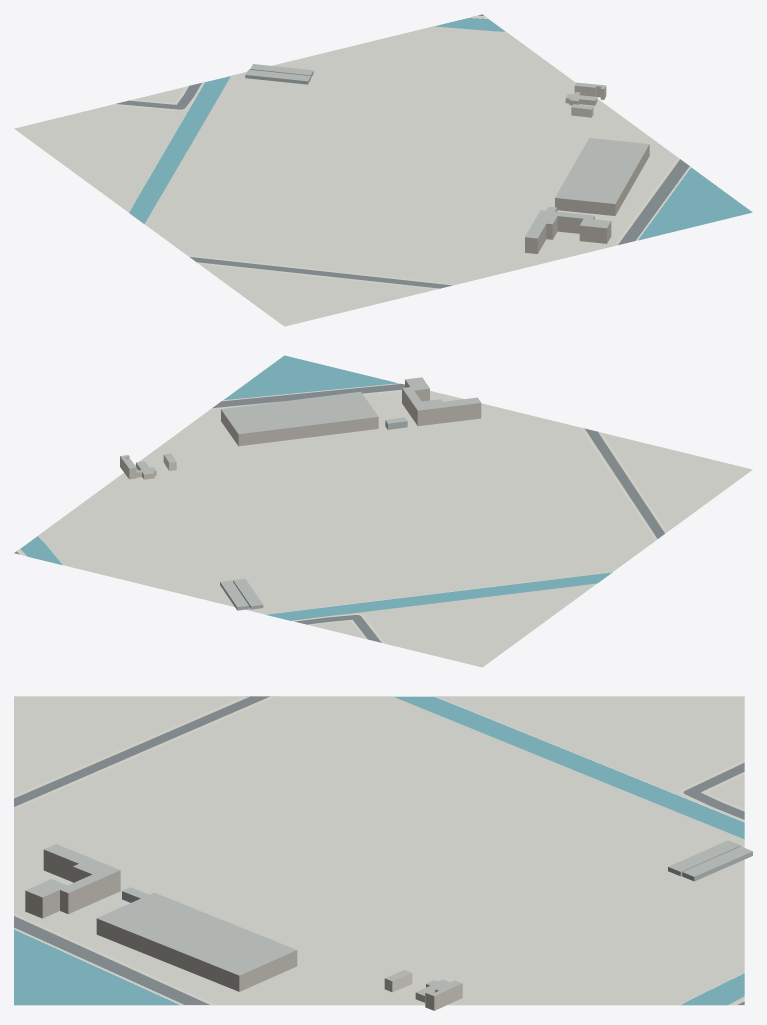
3 renders of one model, top to bottom at view 1: azimuth 30°, elevation 25°; view 2: azimuth 150°, elevation 25°; view 3: azimuth 270°, elevation 25°, orthographic. The views are drawn at different scales.
Parts seen in each view (by area): view 1: city; view 2: city; view 3: city.
Part boxes in pixels (bbox=[...]): city: bbox=[14, 14, 752, 326]; city: bbox=[14, 355, 752, 667]; city: bbox=[14, 696, 752, 1010].
Bounding box in the file's own units: 509 × 16.08 × 506.
